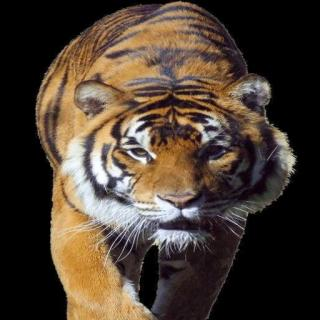Tiger: (25, 0, 299, 320)
